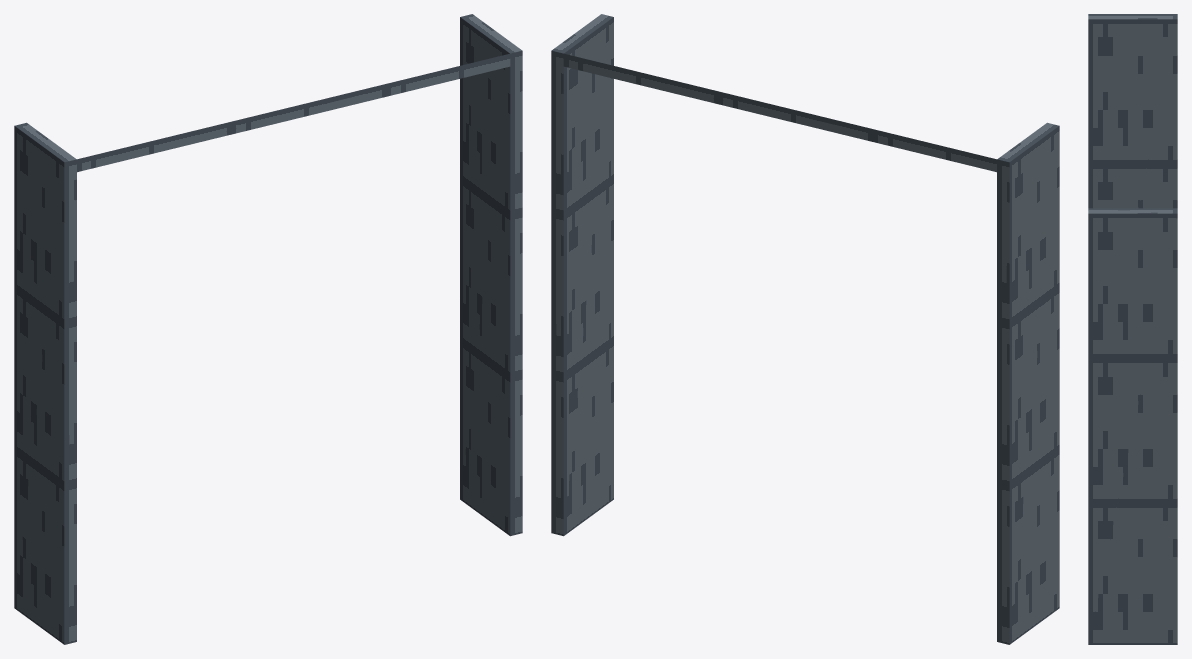
File: wide_frame.glb
The picture shows the model from 3 angles, left to right: view 1: azimuth 30°, elevation 25°; view 2: azimuth 150°, elevation 25°; view 3: azimuth 270°, elevation 25°; orthographic projection. The views are drawn at different scales.
Visible parts, largest first — view 1: wide_frame mesh; view 2: wide_frame mesh; view 3: wide_frame mesh.
Part boxes in pixels (x1=…): wide_frame mesh: x1=14, y1=14, x2=522, y2=644; wide_frame mesh: x1=551, y1=14, x2=1059, y2=644; wide_frame mesh: x1=1088, y1=14, x2=1177, y2=644.
Bounding box in the file's own units: 2.96 × 2.98 × 0.56.
Materials: 1 (1 with a texture image).
